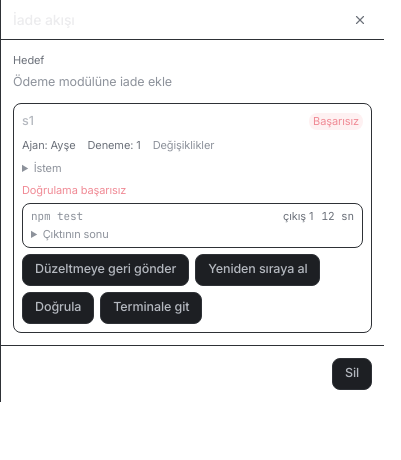
Test case: onaylı görev › başarısız: kanıt (komut, çıkış, süre, katlı çıktı); geri gönder reddedilirse açık hata
The width and height of the screenshot is (401, 460).
Check: the list item shows "npm test", box [31,208,83,222]
Check: the list item shows "çıkış 1", box [283,208,314,222]
Step 1. Click the button "Düzeltmeye geri gönder" → click(106, 270), box [22,254,189,286]
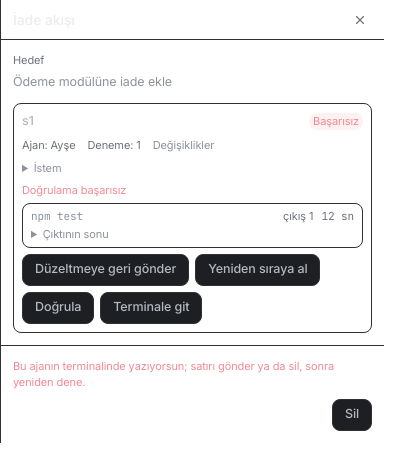
Check: the message reads "Bu ajanın terminalinde yazıyorsun; satırı gönder ya da sil, sonra yeniden dene.", box [13,358,334,389]
